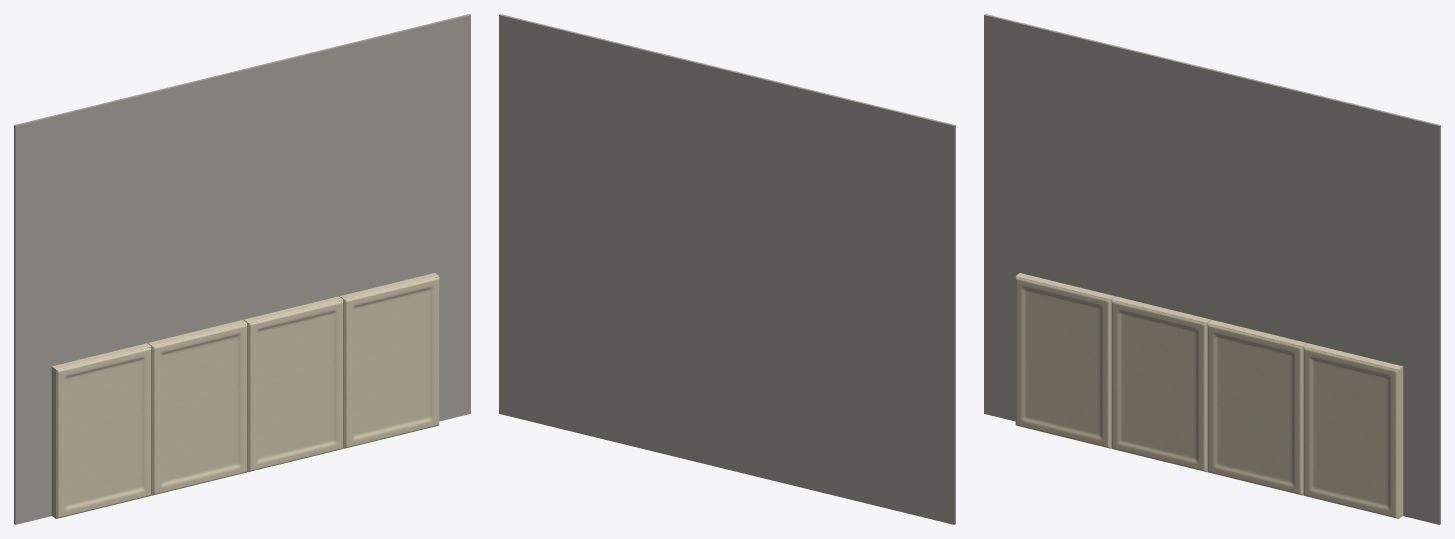
Rendered from terilgan.glb.
3 views of the same model, side by side, from view 1: azimuth 30°, elevation 25°; view 2: azimuth 150°, elevation 25°; view 3: azimuth 330°, elevation 25° (orthographic).
Visible parts, largest first — view 1: Devor, t0, t3, t1, t2; view 2: Devor; view 3: Devor, t3, t0, t1, t2.
Part boxes in pixels (box(x1,y1,x2,y2)): Devor: box(14, 14, 470, 524); t0: box(51, 343, 151, 518); t3: box(339, 273, 439, 448); t1: box(147, 320, 247, 495); t2: box(244, 296, 343, 471); Devor: box(499, 14, 955, 524); Devor: box(984, 14, 1440, 524); t3: box(1303, 343, 1403, 518); t0: box(1015, 273, 1115, 448); t1: box(1111, 296, 1210, 471); t2: box(1207, 320, 1307, 495).
Bounding box in the file's own units: 1.91 × 1.6 × 0.0519.
